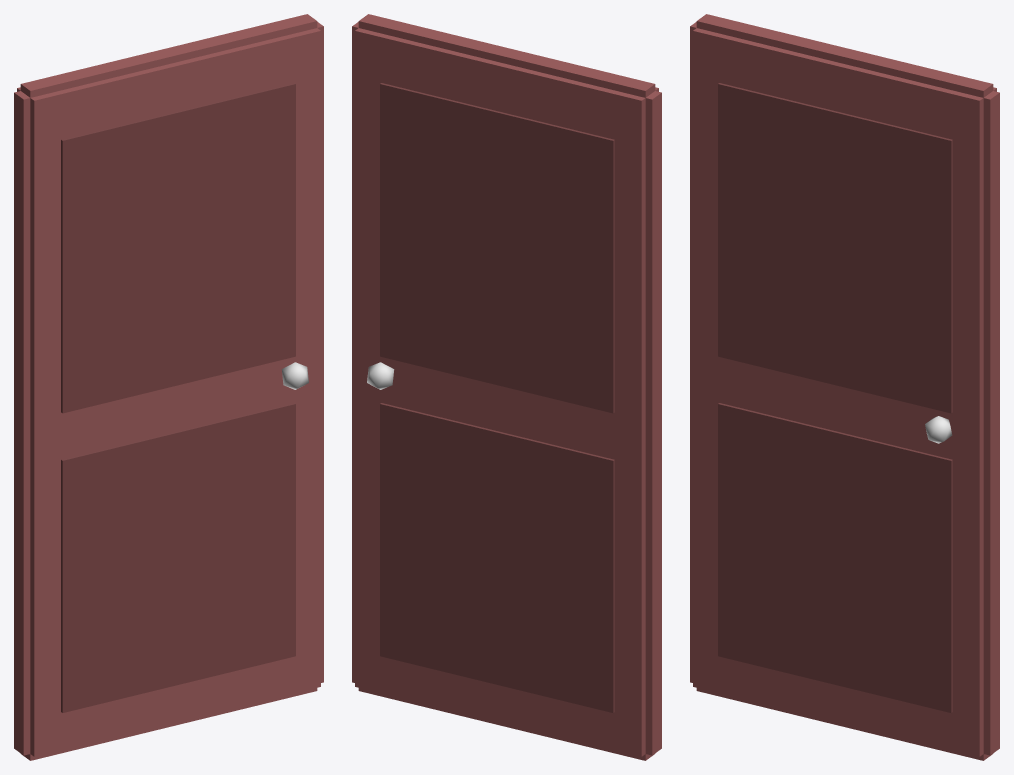
File: shadewood_door_v0.glb
The picture shows the model from 3 angles, left to right: view 1: azimuth 30°, elevation 25°; view 2: azimuth 150°, elevation 25°; view 3: azimuth 330°, elevation 25°; orthographic projection.
Parts seen in each view (by area): view 1: shadewood_door_v0; view 2: shadewood_door_v0; view 3: shadewood_door_v0.
Part boxes in pixels (x1,y1,x2,y2): shadewood_door_v0: (14, 14, 323, 760); shadewood_door_v0: (352, 14, 661, 760); shadewood_door_v0: (690, 14, 999, 760).
Size of the model in its own units: 0.9 by 1.92 by 0.2381.
